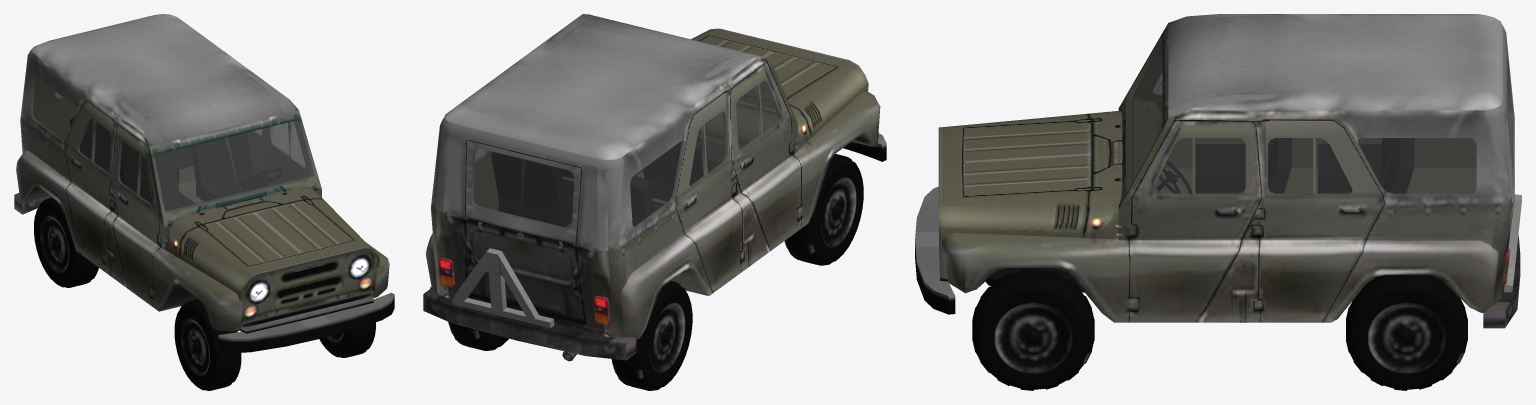
3 views of the same model, side by side, from view 1: azimuth 30°, elevation 25°; view 2: azimuth 150°, elevation 25°; view 3: azimuth 270°, elevation 25° (orthographic). The views are drawn at different scales.
Visible parts, largest first — view 1: Body, Glass, wheel.003, wheel.002, wheel, helm; view 2: Body, Glass, wheel.003, wheel.002, wheel.001; view 3: Body, Glass, wheel, wheel.001.
Boxes of the visible parts, x1,y1,x2,y2 form: Body: (14,14,394,352); Glass: (30,77,314,212); wheel.003: (174,299,241,390); wheel.002: (34,197,98,287); wheel: (319,322,375,357); helm: (242,168,283,188); Body: (423,14,886,361); Glass: (471,81,780,228); wheel.003: (784,154,863,265); wheel.002: (611,281,692,390); wheel.001: (448,322,508,350); Body: (915,14,1521,328); Glass: (1126,36,1513,195); wheel: (972,269,1094,390); wheel.001: (1346,275,1467,390).
Size of the model in its own units: 183 by 215 by 413.
2 materials, 2 textured.
